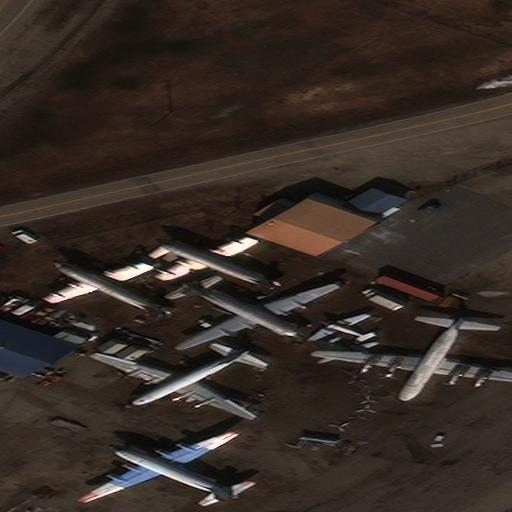Large Civil Transport: (309, 316, 512, 401), (88, 348, 251, 421), (177, 283, 340, 352), (76, 430, 234, 501)
Medium Civil Transport: (36, 259, 172, 320), (147, 232, 279, 287), (304, 311, 367, 341)
